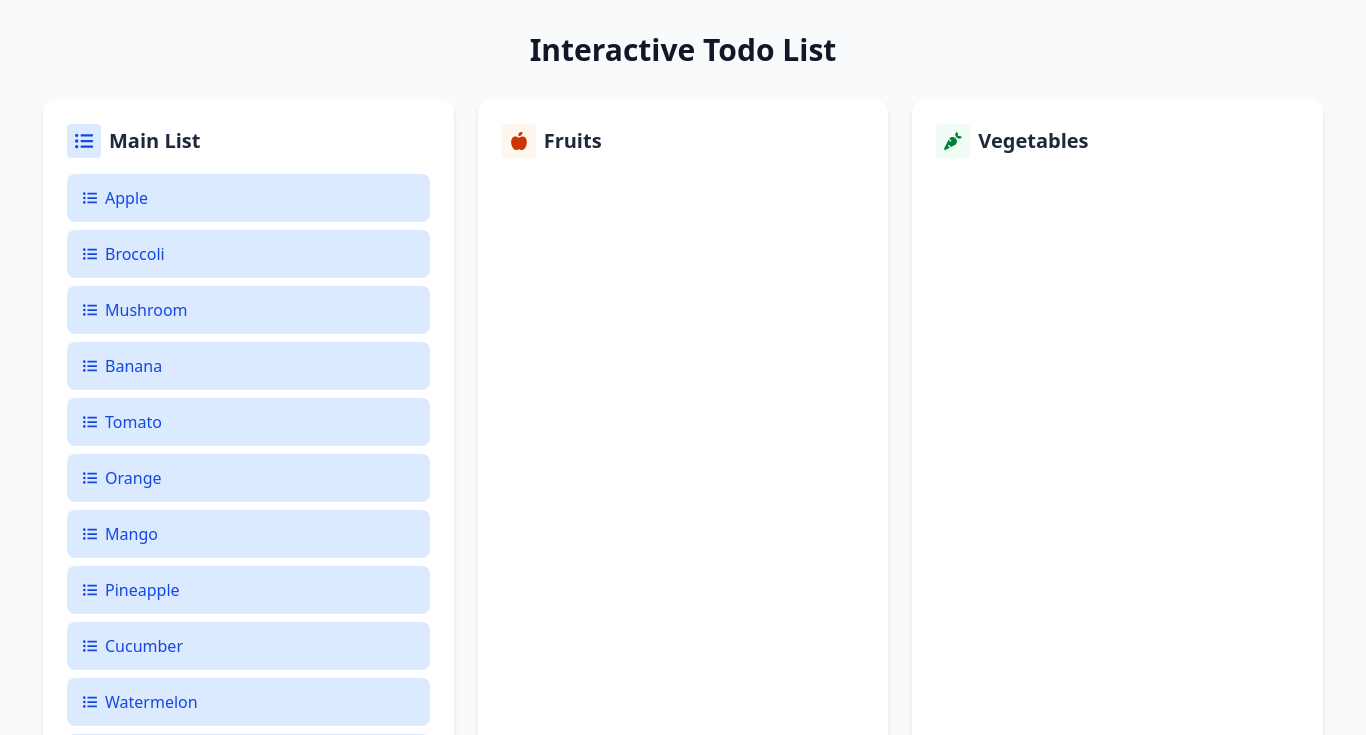
Scenario: App Integration Tests › allows manual return of items to main list
Move item to type list
Click the button "Banana".
click(134, 366)  # box [67,342,430,390]
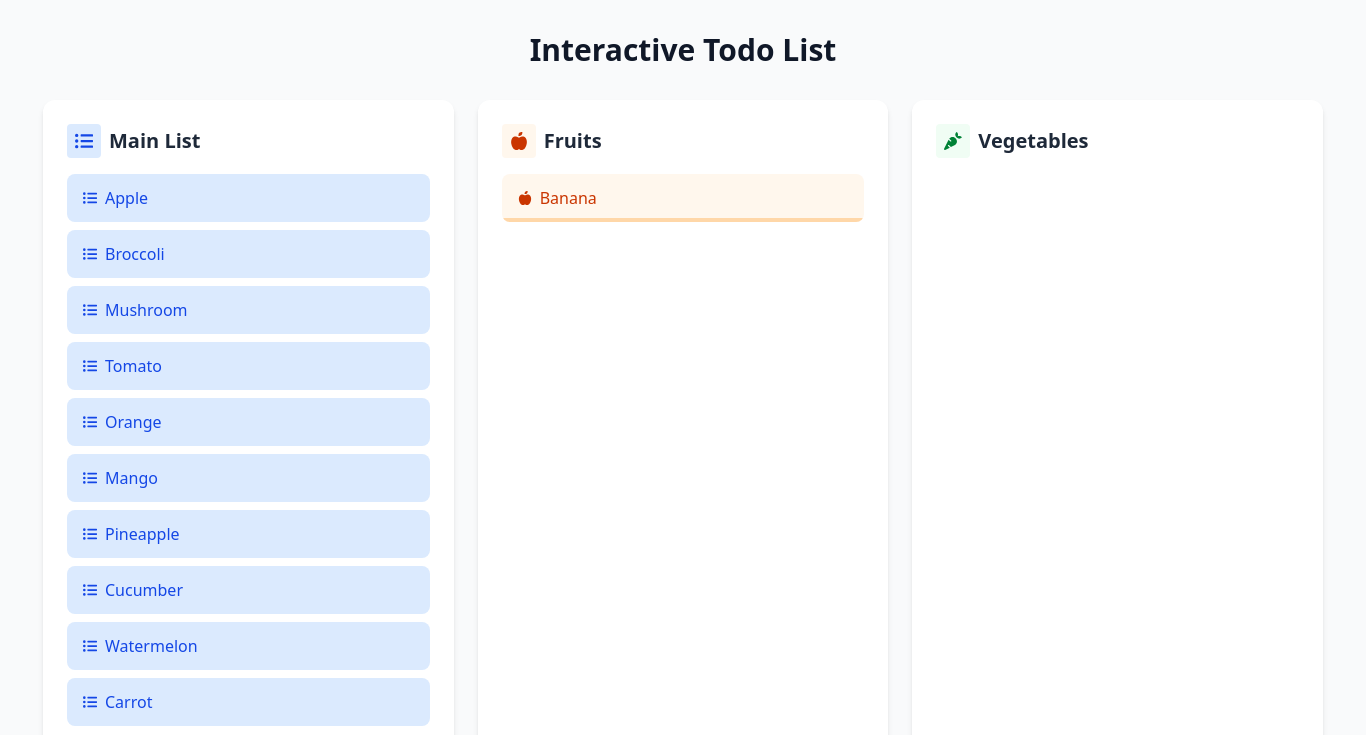
Click the button with aria-label "Return Banana to main list".
click(568, 198)  # box [502,174,864,222]
(page scrolled)
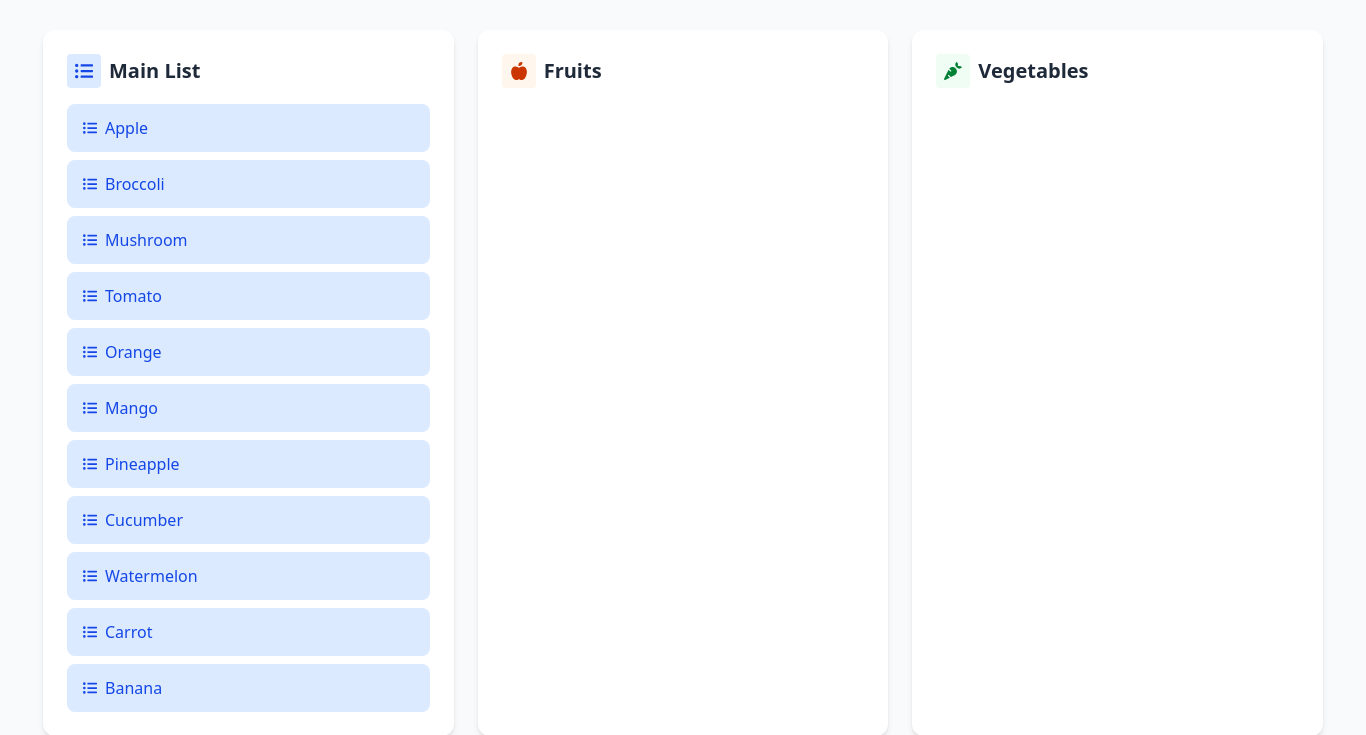
Expected: the button with aria-label "Move Banana to Fruit list" is shown, [67,664,430,712]
